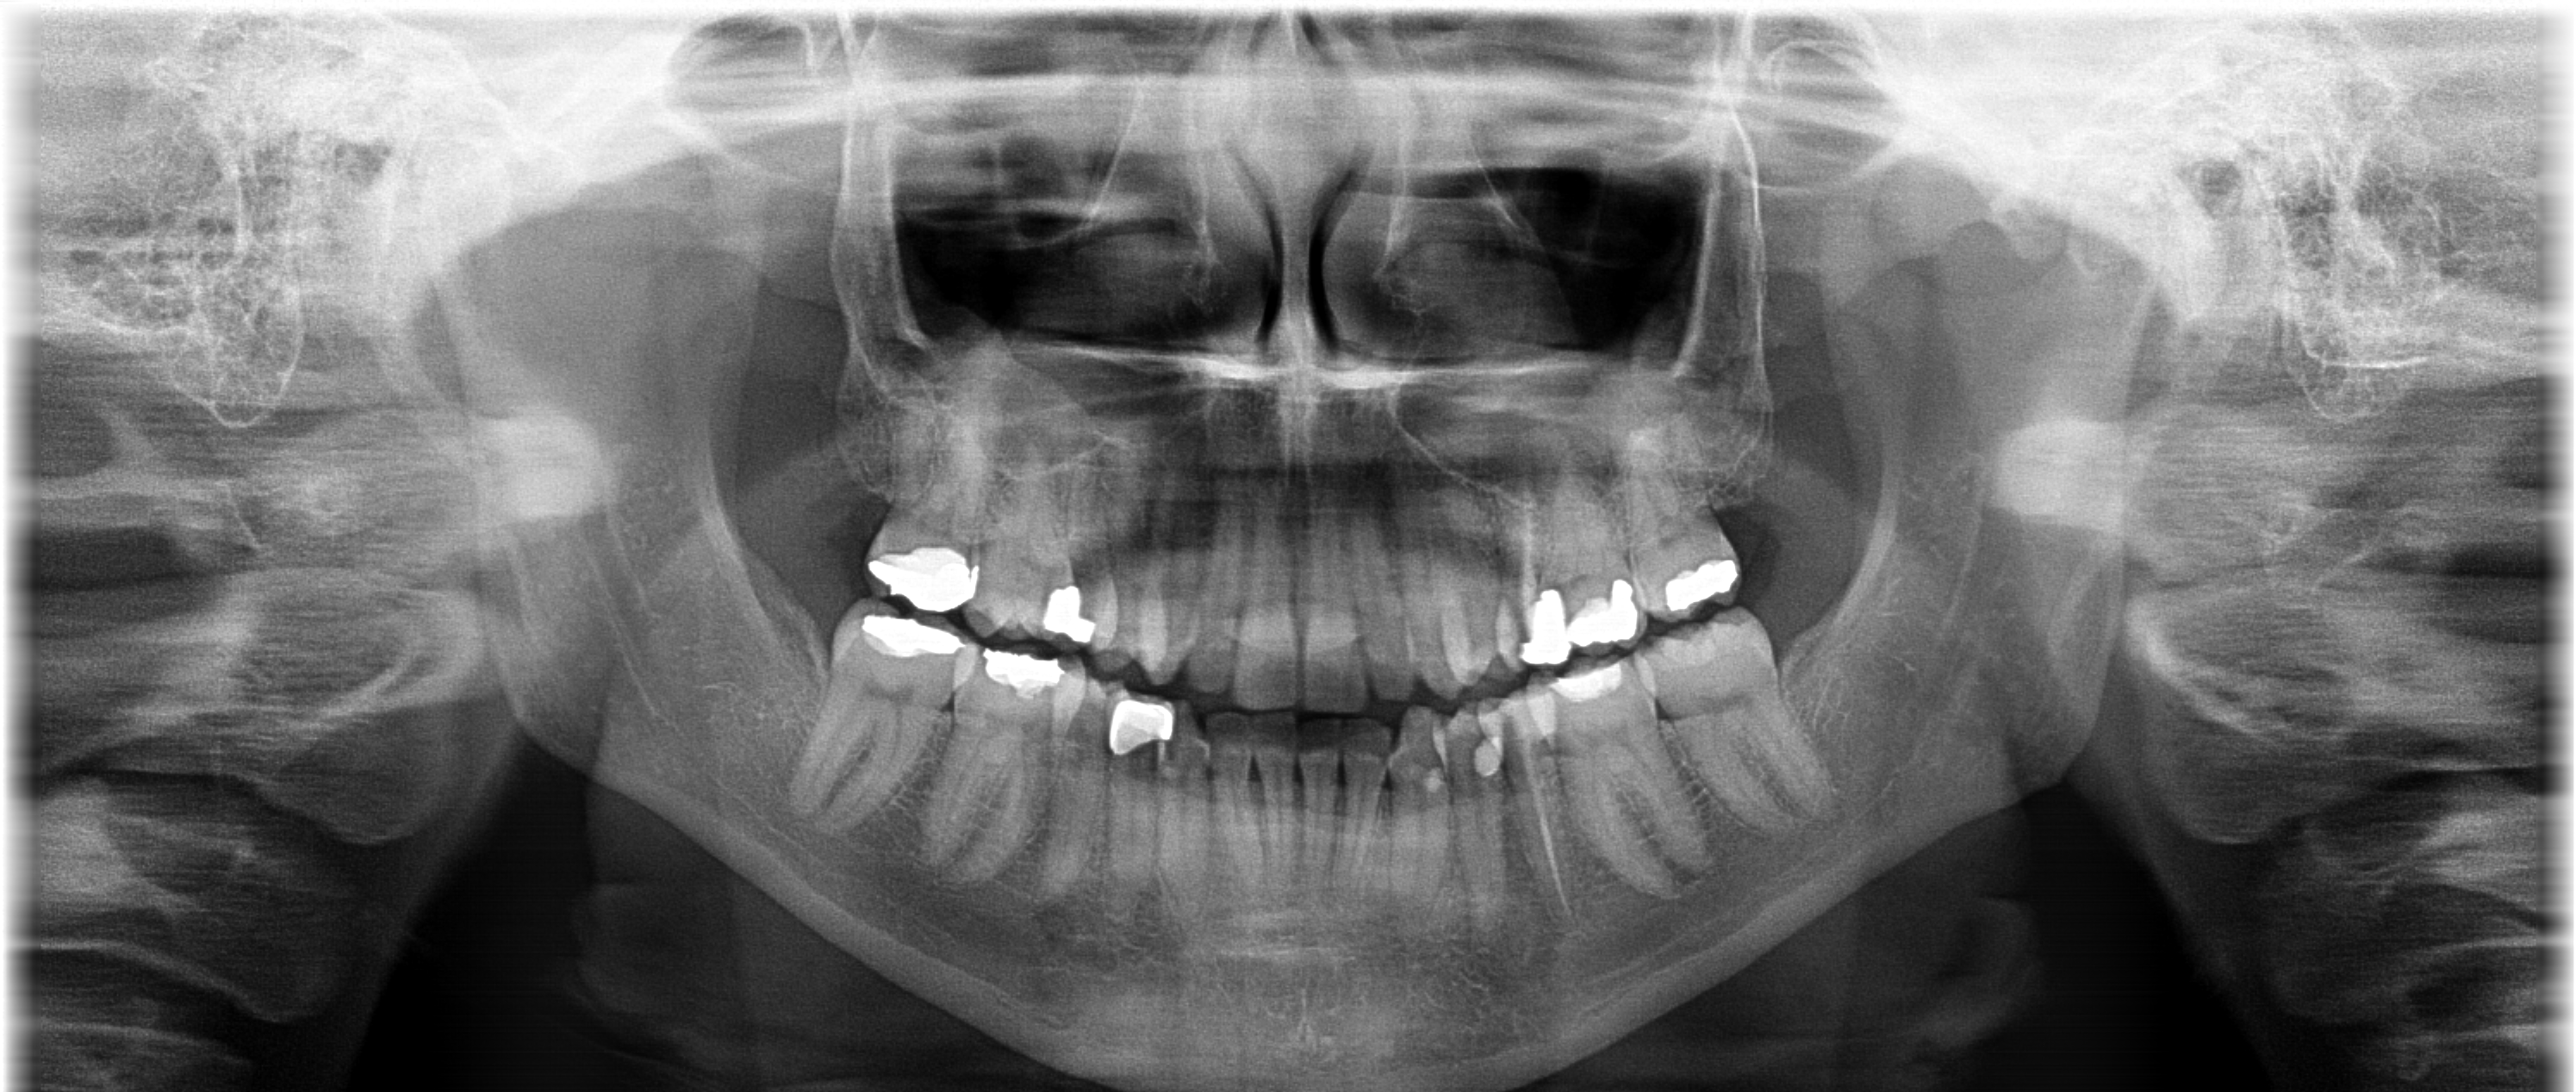apinamiento: (1073, 593, 1267, 698), (1392, 596, 1566, 695)
tratamiento_conducto: (1487, 691, 1630, 923)
